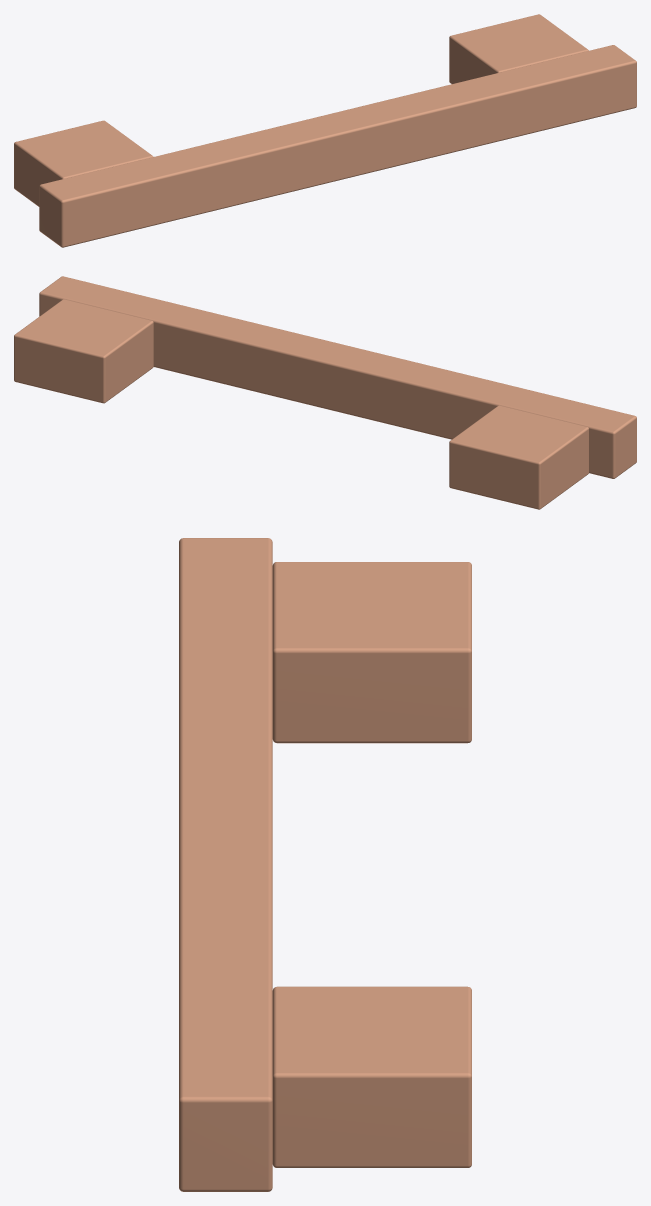
File: eurofit-h-355-96sb.glb
The picture shows the model from 3 angles, top to bottom: view 1: azimuth 30°, elevation 25°; view 2: azimuth 150°, elevation 25°; view 3: azimuth 270°, elevation 25°; orthographic projection. The views are drawn at different scales.
Parts seen in each view (by area): view 1: Blade grip, Mounting standoff, Mounting standoff.001; view 2: Blade grip, Mounting standoff, Mounting standoff.001; view 3: Blade grip, Mounting standoff, Mounting standoff.001.
Boxes of the visible parts, left/top/right/bottom form: Blade grip: left=39, top=45, right=636, bottom=247; Mounting standoff: left=14, top=120, right=153, bottom=206; Mounting standoff.001: left=449, top=14, right=588, bottom=83; Blade grip: left=39, top=276, right=636, bottom=478; Mounting standoff: left=449, top=405, right=588, bottom=509; Mounting standoff.001: left=14, top=299, right=153, bottom=403; Blade grip: left=179, top=538, right=272, bottom=1191; Mounting standoff: left=272, top=562, right=471, bottom=743; Mounting standoff.001: left=272, top=986, right=471, bottom=1167.
Bounding box in the file's own units: 0.127 × 0.01 × 0.028.
